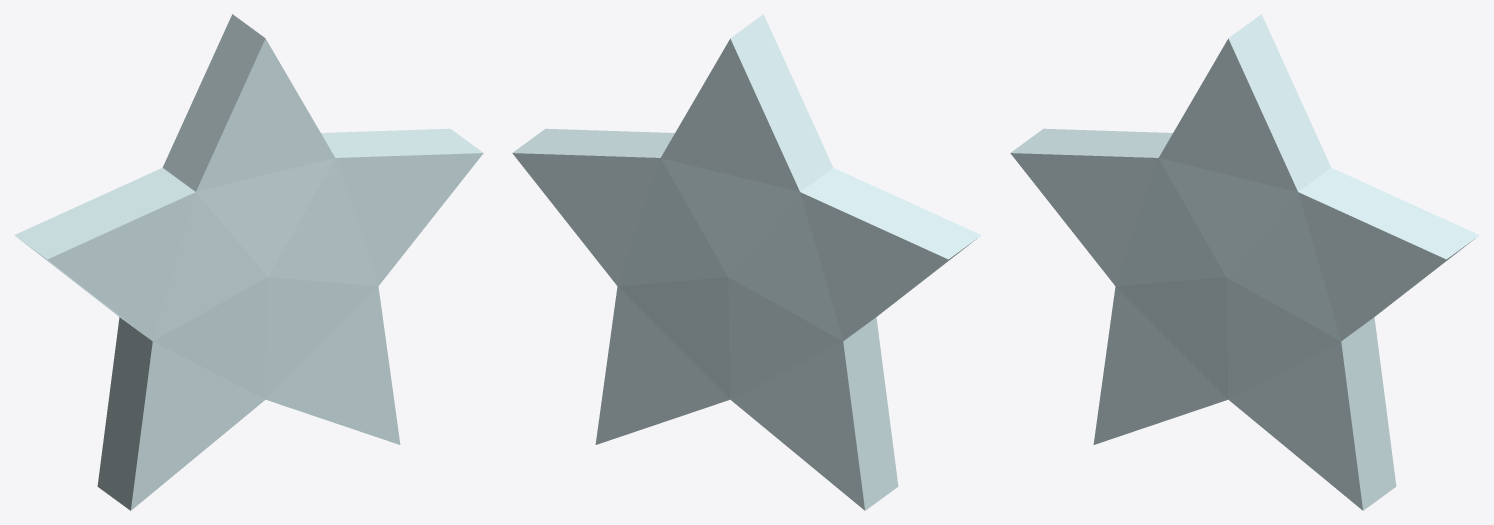
Rendered from starSilver.fbx.
3 views of the same model, side by side, from view 1: azimuth 30°, elevation 25°; view 2: azimuth 150°, elevation 25°; view 3: azimuth 330°, elevation 25° (orthographic).
Visible parts, largest first — view 1: cylinder; view 2: cylinder; view 3: cylinder.
Part boxes in pixels (x1,y1,x2,y2): cylinder: (14, 14, 483, 510); cylinder: (512, 14, 981, 510); cylinder: (1010, 14, 1479, 510).
Bounding box in the file's own units: 71 × 68.38 × 10.62.
1 material, 1 textured.
